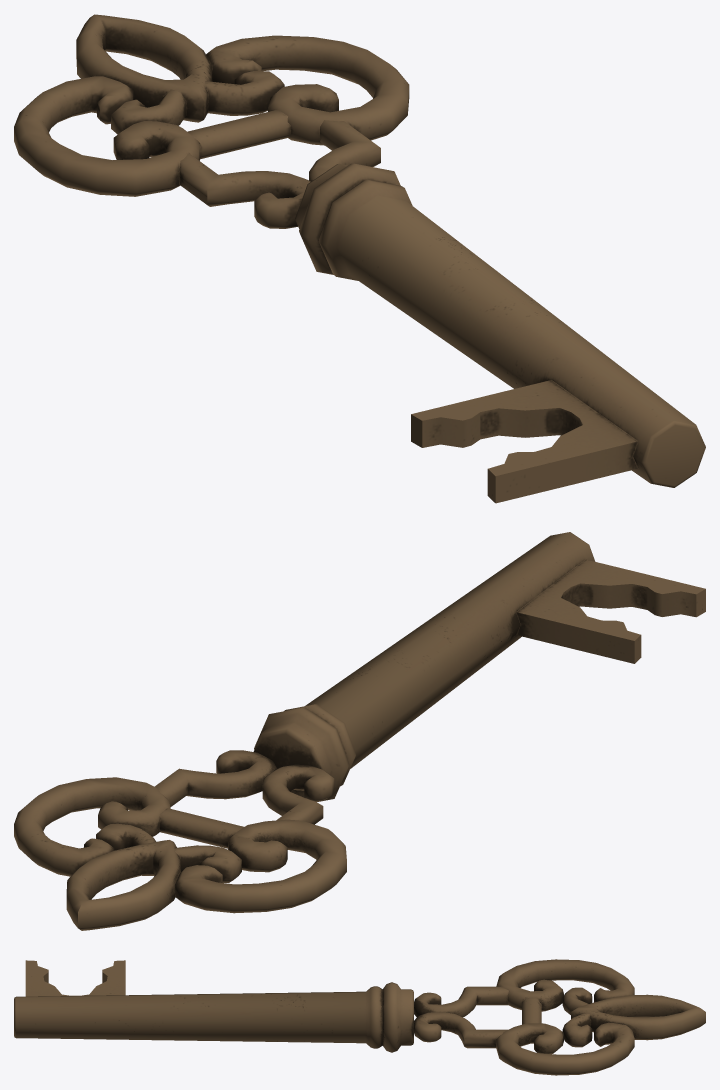
The model's file is Key04.glb.
The picture shows the model from 3 angles, top to bottom: view 1: azimuth 30°, elevation 25°; view 2: azimuth 150°, elevation 25°; view 3: azimuth 270°, elevation 25°; orthographic projection. The views are drawn at different scales.
Parts seen in each view (by area): view 1: Circle_002; view 2: Circle_002; view 3: Circle_002.
Boxes of the visible parts, x1,y1,x2,y2 form: Circle_002: (14, 14, 705, 503); Circle_002: (14, 532, 705, 930); Circle_002: (14, 959, 705, 1075).
Size of the model in its own units: 0.0821 by 0.0252 by 0.232.
Materials: 1 (1 with a texture image).
